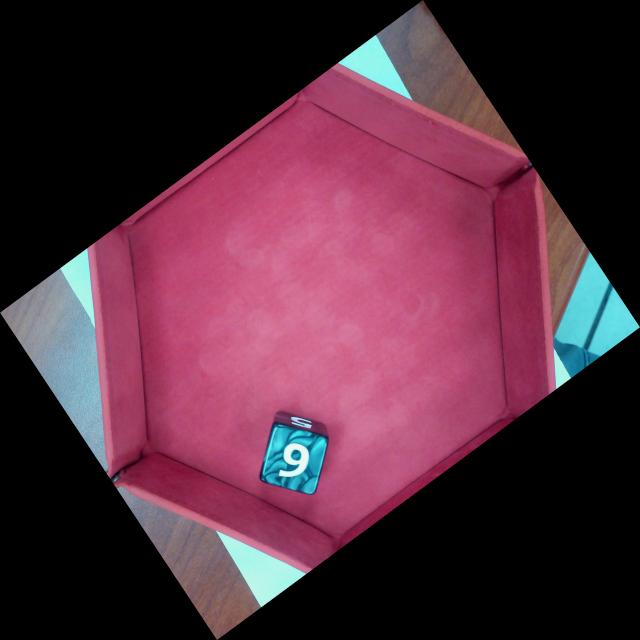dice: (260, 425, 328, 495)
